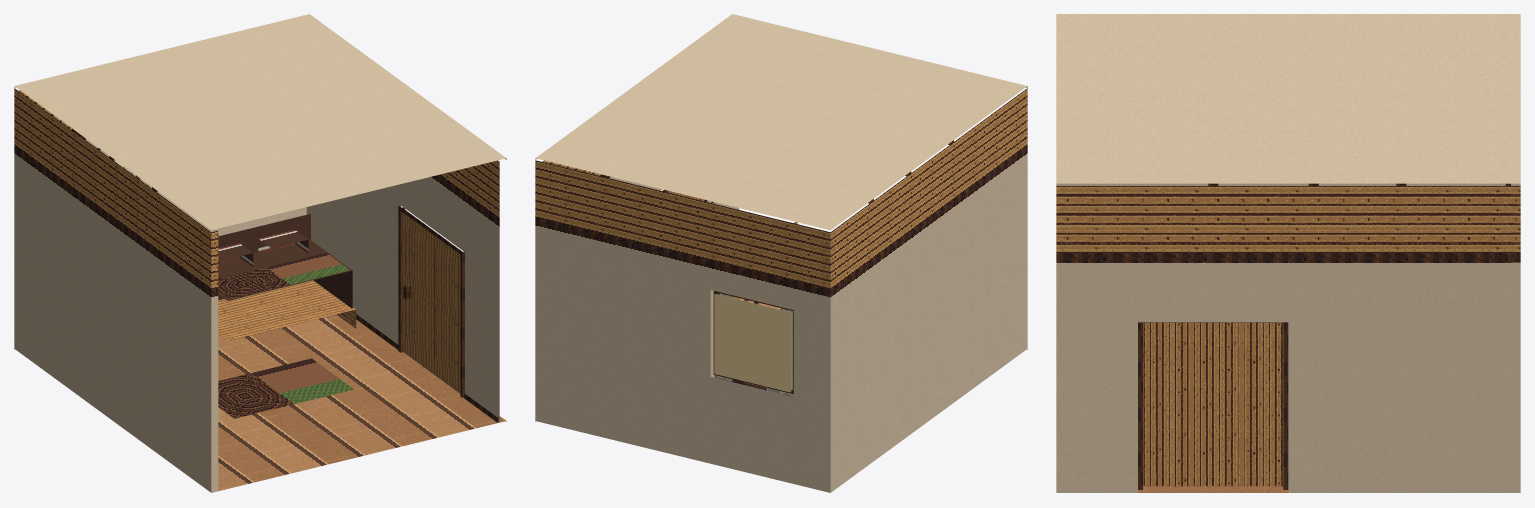
File: shell.glb
3 renders of one model, left to right at view 1: azimuth 30°, elevation 25°; view 2: azimuth 150°, elevation 25°; view 3: azimuth 270°, elevation 25°, orthographic. The views are drawn at different scales.
Parts seen in each view (by area): view 1: Room1_Ceiling, Room1_WallLeft, Room1_Floor, Room1_WallRight_B, Room1_WallRight_F, Room1_DoorLeaf, Slot_bed_frame, Slot_rug, Room1_WallRight_Head, Slot_bed_quilt, Slot_bed_mattress, Room1_DoorFrame (+5 smaller); view 2: Room1_Ceiling, Room1_WallLeft, Room1_WallBack_R, Room1_WallBack_L, Room1_WallBack_Head, Room1_WallBack_Sill, Room1_WindowDaylight, Room1_WindowFrame; view 3: Room1_Ceiling, Room1_WallRight_B, Room1_WallRight_F, Room1_DoorLeaf, Room1_WallRight_Head, Room1_WallBack_R, Room1_DoorFrame, Room1_WallLeft, Room1_Floor.
Part boxes in pixels (box(x1,y1,x2,y2)): Room1_Ceiling: box(14, 14, 506, 230); Room1_WallLeft: box(14, 88, 218, 492); Room1_Floor: box(14, 314, 506, 491); Room1_WallRight_B: box(306, 184, 401, 344); Room1_WallRight_F: box(465, 160, 501, 422); Room1_DoorLeaf: box(401, 212, 460, 393); Slot_bed_frame: box(218, 280, 356, 340); Slot_rug: box(218, 358, 353, 418); Room1_WallRight_Head: box(401, 168, 464, 251); Slot_bed_quilt: box(218, 252, 349, 299); Slot_bed_mattress: box(218, 239, 352, 308); Room1_DoorFrame: box(398, 205, 464, 397); Room1_Ceiling: box(535, 14, 1027, 230); Room1_WallLeft: box(823, 88, 1027, 492); Room1_WallBack_R: box(535, 160, 714, 463); Room1_WallBack_L: box(793, 223, 834, 492); Room1_WallBack_Head: box(710, 203, 797, 309); Room1_WallBack_Sill: box(710, 377, 793, 483); Room1_WindowDaylight: box(714, 294, 790, 392); Room1_WindowFrame: box(713, 291, 793, 393); Room1_Ceiling: box(1056, 14, 1520, 183); Room1_WallRight_B: box(1288, 186, 1520, 492); Room1_WallRight_F: box(1056, 186, 1137, 492); Room1_DoorLeaf: box(1143, 322, 1283, 486); Room1_WallRight_Head: box(1138, 186, 1288, 322); Room1_WallBack_R: box(1511, 186, 1520, 492); Room1_DoorFrame: box(1138, 322, 1288, 489); Room1_WallLeft: box(1056, 183, 1505, 185); Room1_Floor: box(1138, 486, 1288, 492).
Bounding box in the file's own units: 128 × 109 × 148.
Materials: 17 (17 with a texture image).
